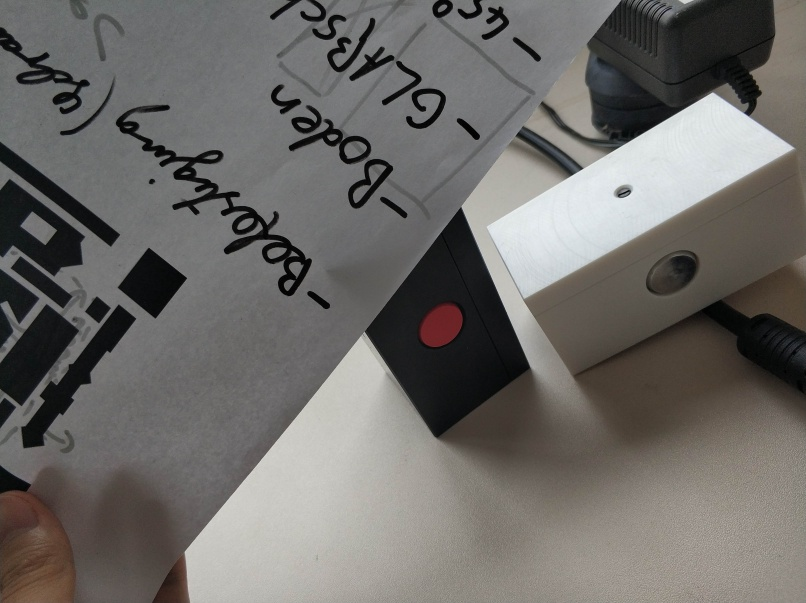black+black+red: (359, 200, 535, 445)
white+white+silver: (483, 91, 806, 380)
